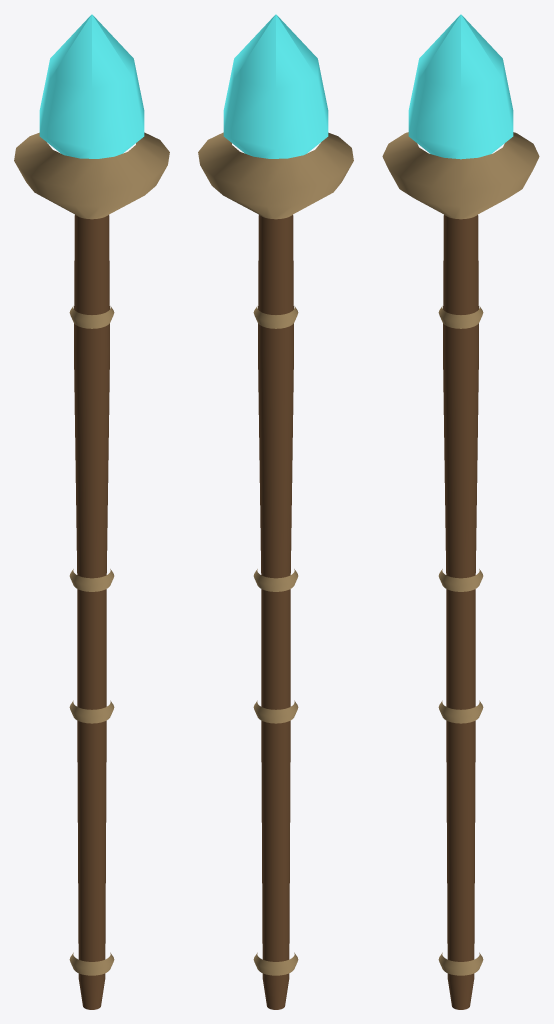
Rendered from jade-staff.glb.
3 views of the same model, side by side, from view 1: azimuth 30°, elevation 25°; view 2: azimuth 150°, elevation 25°; view 3: azimuth 270°, elevation 25° (orthographic).
Parts seen in each view (by area): view 1: tapered carved shaft, jade crystal, bronze lotus crown, engraved bronze collar -0.12, engraved bronze collar -0.58, engraved bronze collar 0.12, engraved bronze collar 0.6; view 2: tapered carved shaft, jade crystal, bronze lotus crown, engraved bronze collar -0.12, engraved bronze collar -0.58, engraved bronze collar 0.12, engraved bronze collar 0.6; view 3: tapered carved shaft, jade crystal, bronze lotus crown, engraved bronze collar -0.12, engraved bronze collar -0.58, engraved bronze collar 0.12, engraved bronze collar 0.6.
Part boxes in pixels (box(x1,y1,x2,y2)): tapered carved shaft: box(74, 215, 109, 1009); jade crystal: box(39, 14, 144, 158); bronze lotus crown: box(14, 132, 169, 218); engraved bronze collar -0.12: box(69, 700, 114, 723); engraved bronze collar -0.58: box(69, 952, 114, 975); engraved bronze collar 0.12: box(69, 569, 114, 591); engraved bronze collar 0.6: box(69, 306, 114, 328); tapered carved shaft: box(258, 215, 293, 1009); jade crystal: box(223, 14, 328, 158); bronze lotus crown: box(198, 132, 353, 218); engraved bronze collar -0.12: box(253, 700, 298, 723); engraved bronze collar -0.58: box(253, 952, 298, 975); engraved bronze collar 0.12: box(253, 569, 298, 591); engraved bronze collar 0.6: box(253, 306, 298, 328); tapered carved shaft: box(443, 215, 478, 1009); jade crystal: box(408, 14, 513, 159); bronze lotus crown: box(382, 132, 539, 218); engraved bronze collar -0.12: box(438, 700, 483, 723); engraved bronze collar -0.58: box(438, 952, 483, 975); engraved bronze collar 0.12: box(438, 569, 483, 591); engraved bronze collar 0.6: box(438, 306, 483, 328).
Size of the model in its own units: 0.26 by 1.81 by 0.26.
